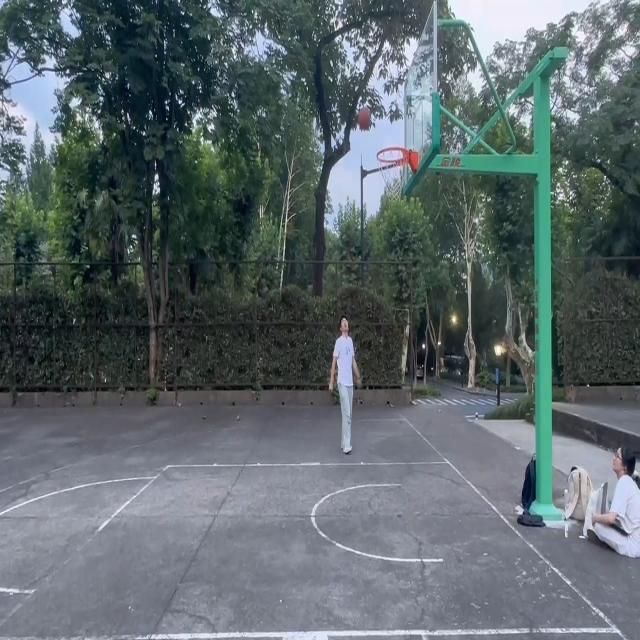basketball: (377, 149, 418, 195)
rim: (358, 107, 372, 130)
